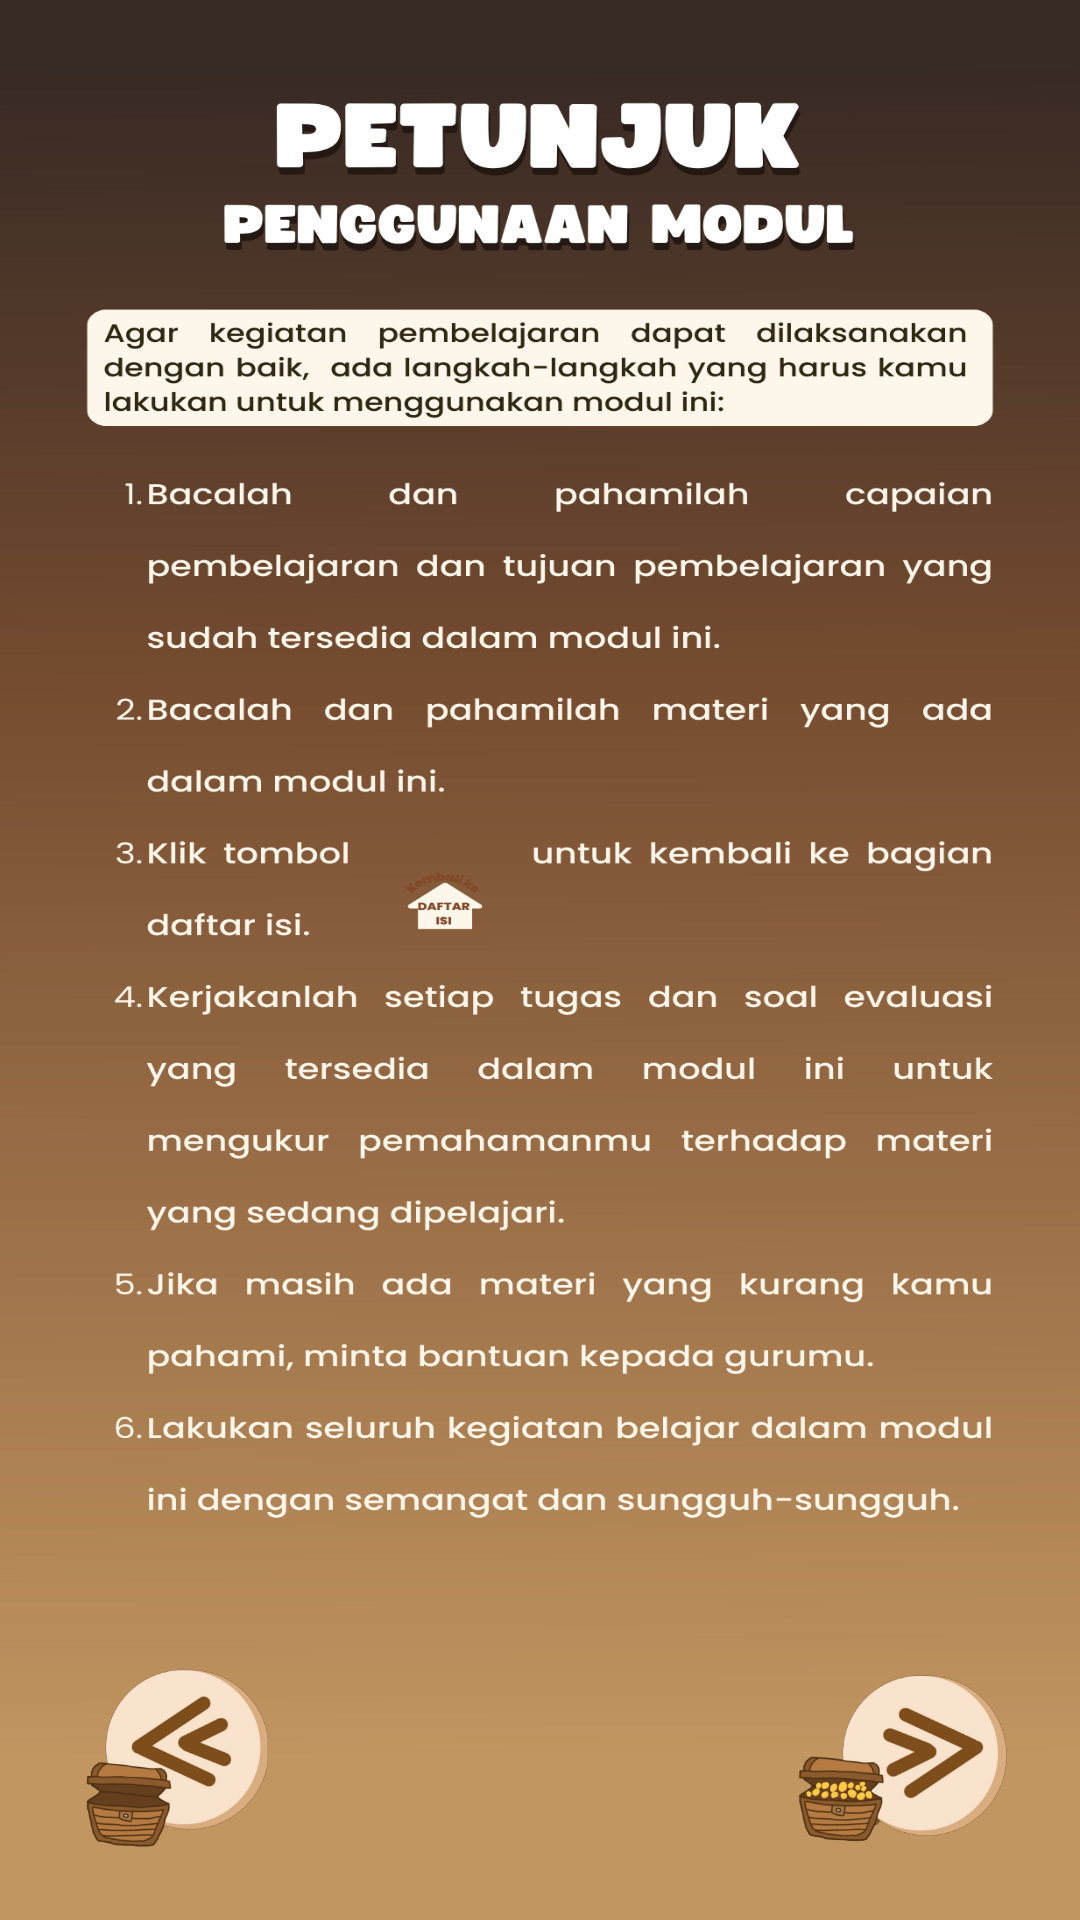

Named icons in this screenshot (1080 × 1920) and their bounding boxes, bbox(x1, y1, x2, y2):
next: bbox(799, 1675, 1007, 1841)
prev: bbox(86, 1669, 268, 1847)
